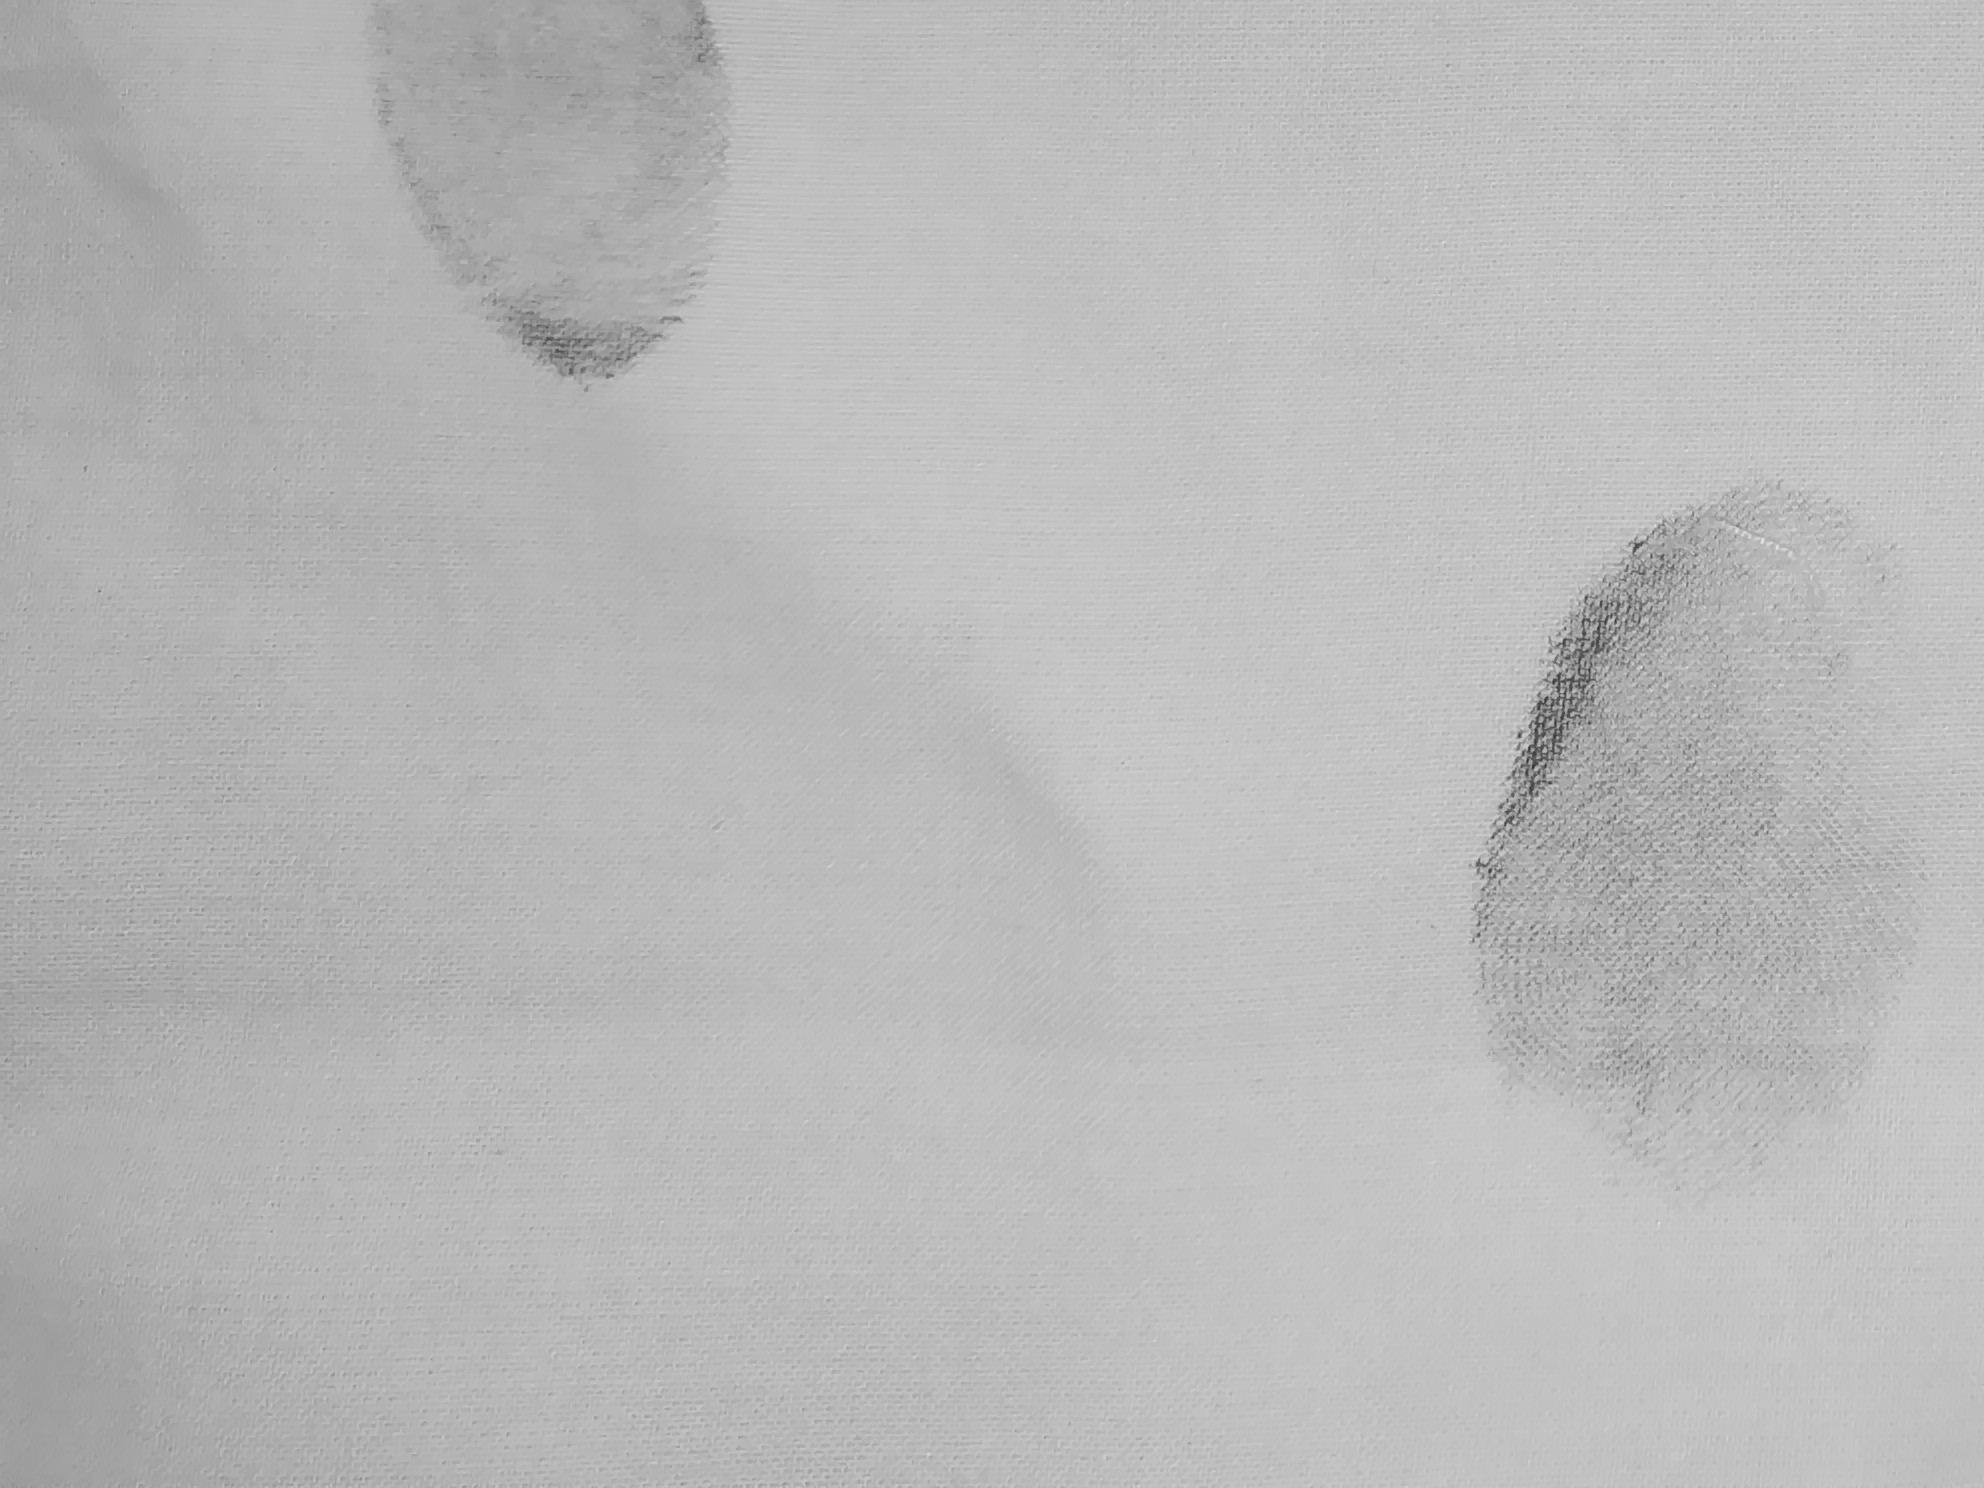Stain: (1465, 342, 1968, 1268), (269, 2, 801, 424)
